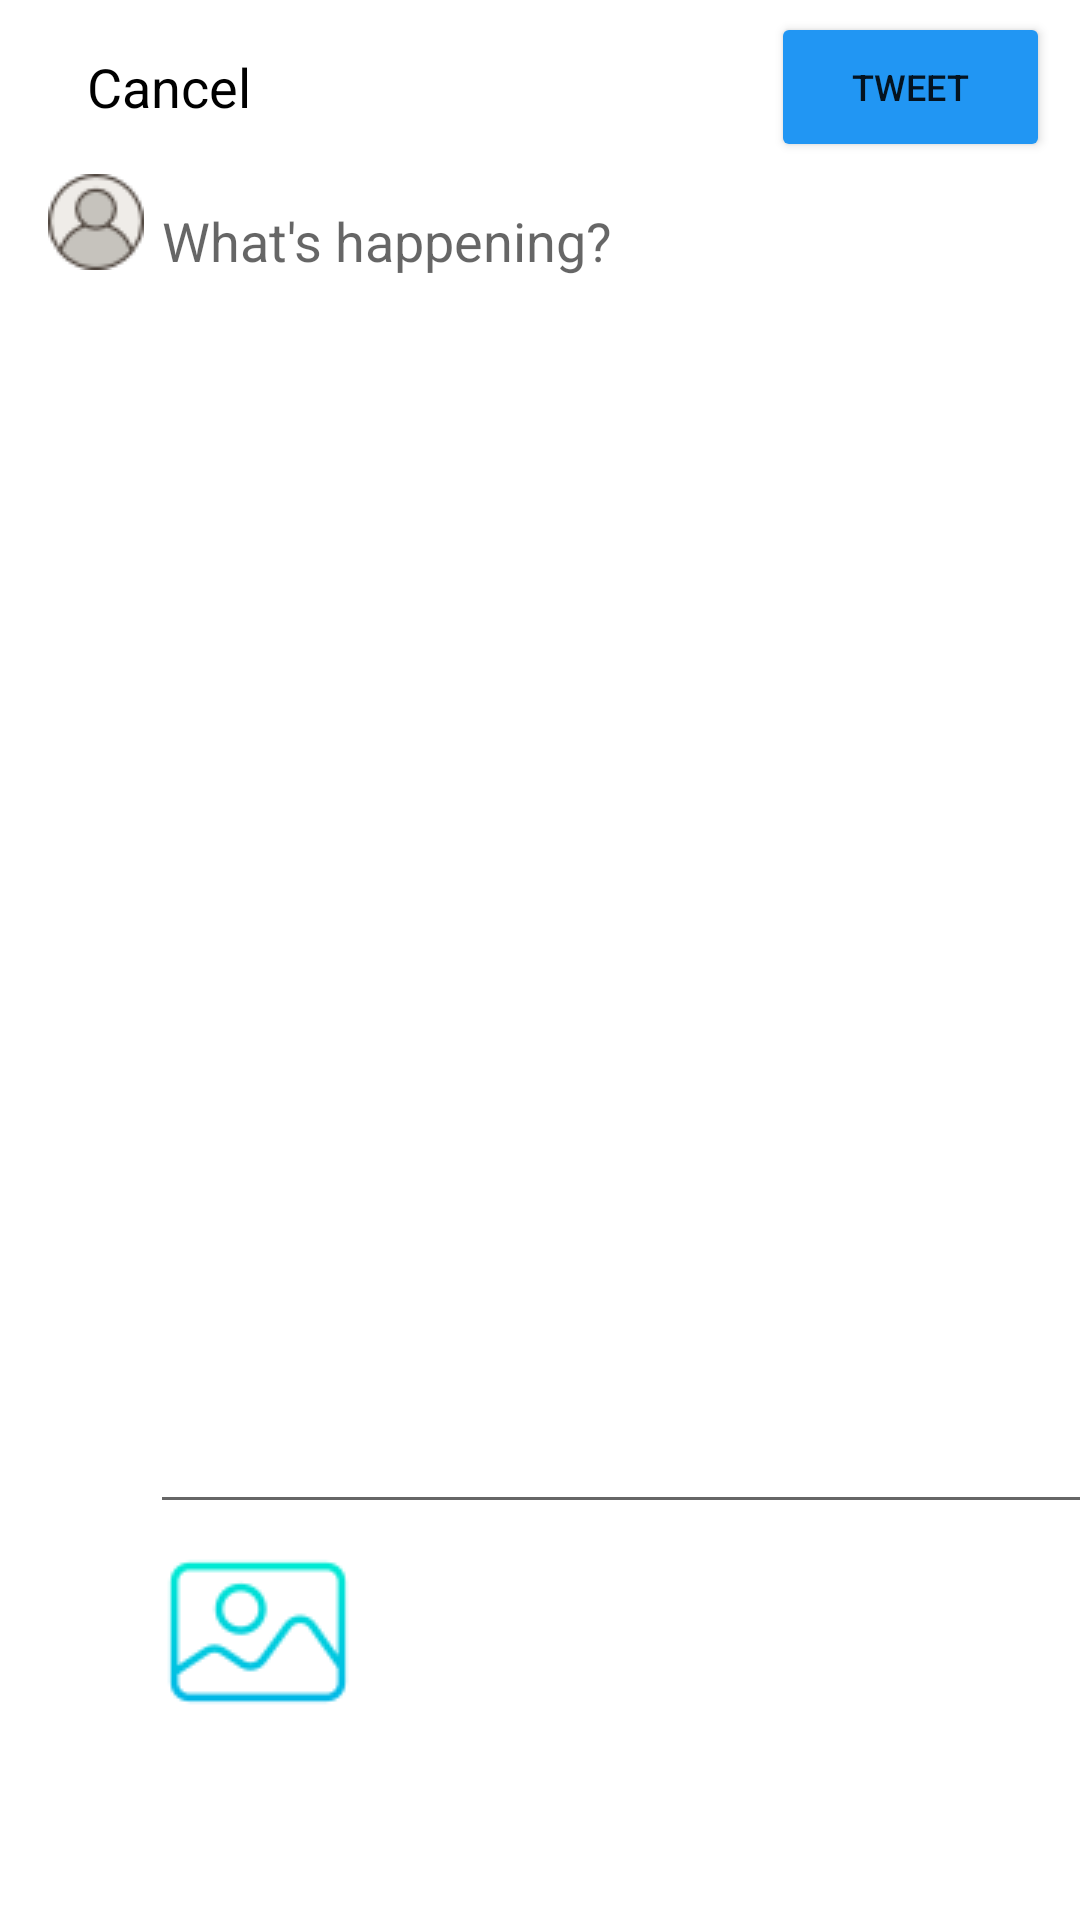

Icons on this 1080px x 1920px Android screen, each with its box as BBox(x1, y1, x2, y2):
imageicon: BBox(169, 1561, 347, 1703)
usericon: BBox(48, 174, 144, 270)
